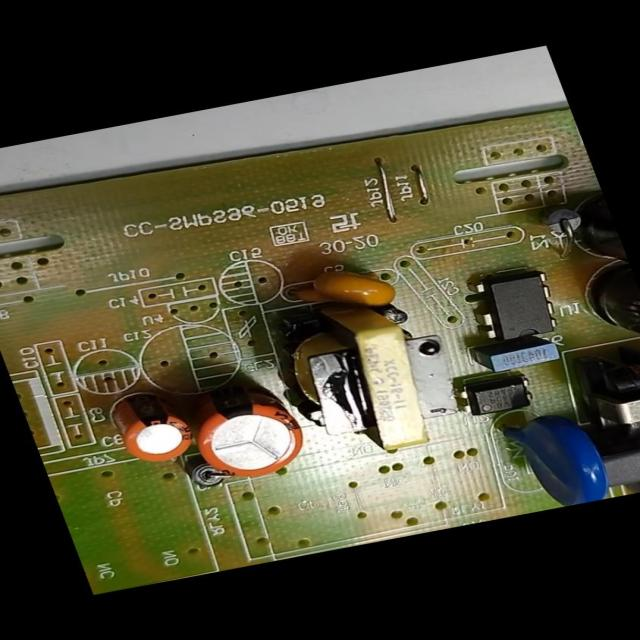Cap1: (179, 376, 313, 486)
Cap2: (104, 389, 198, 466)
Cap3: (596, 289, 639, 366)
Cap4: (566, 192, 637, 292)
MOSFET: (467, 269, 567, 344)
Mov: (502, 406, 615, 511)
Resistor: (620, 474, 640, 495)
Transformer: (254, 282, 476, 466), (586, 361, 640, 443)
